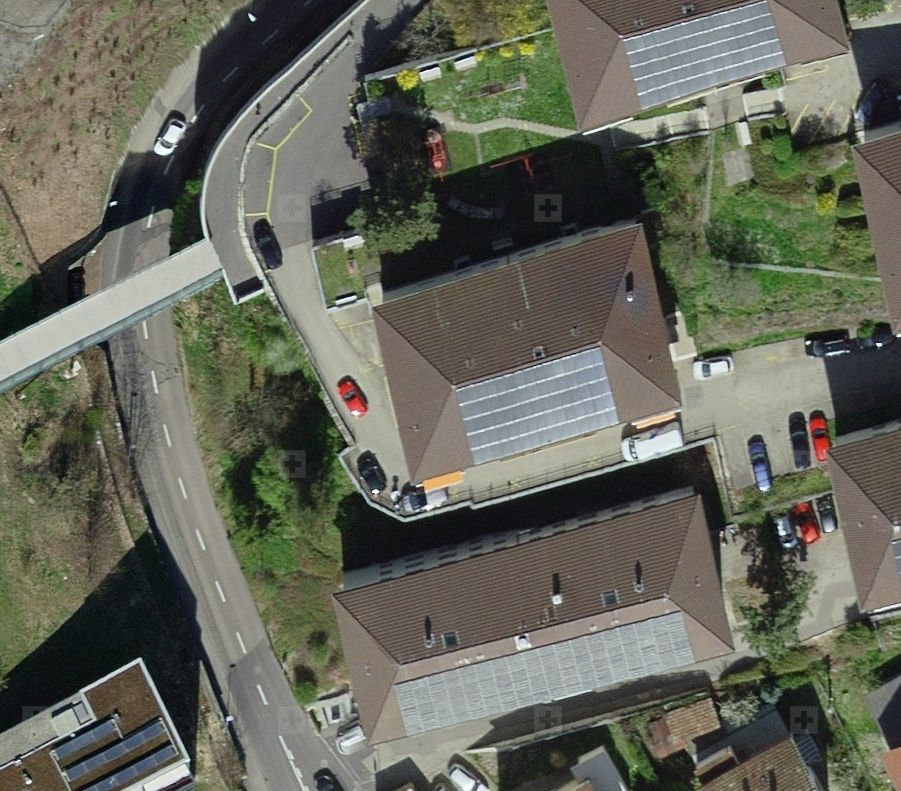solar: (392, 610, 697, 736), (453, 347, 621, 468), (621, 2, 787, 111), (42, 708, 188, 791)
